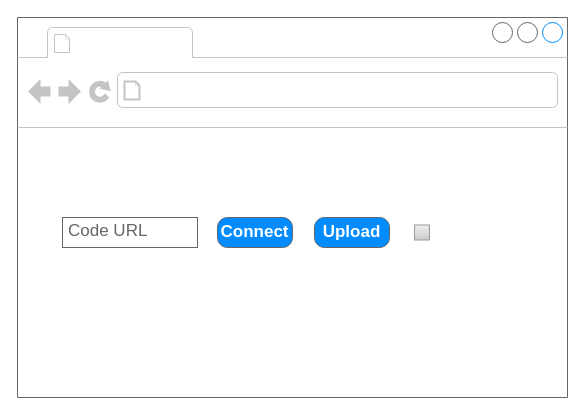
Image size: 585x415. Some labels were removed from this diagram. Each missing label, with the box of its shape:
Upload Demo: (76, 28, 188, 56)
Write to Flash: (414, 224, 430, 240)
